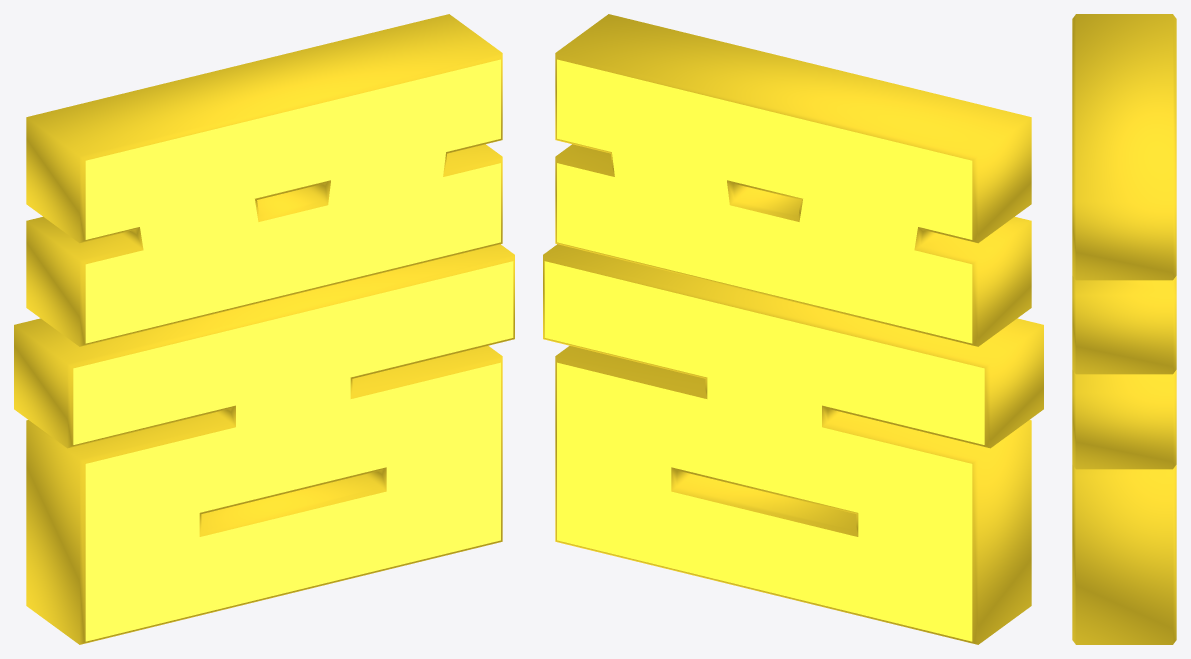
3 renders of one model, left to right at view 1: azimuth 30°, elevation 25°; view 2: azimuth 150°, elevation 25°; view 3: azimuth 270°, elevation 25°, orthographic. The views are drawn at different scales.
Parts seen in each view (by area): view 1: glyph; view 2: glyph; view 3: glyph.
Boxes of the visible parts, bbox=[...] form: glyph: bbox=[14, 14, 514, 644]; glyph: bbox=[543, 14, 1043, 644]; glyph: bbox=[1072, 14, 1176, 644].
Size of the model in its own units: 0.0726 by 0.0758 by 0.0162.
